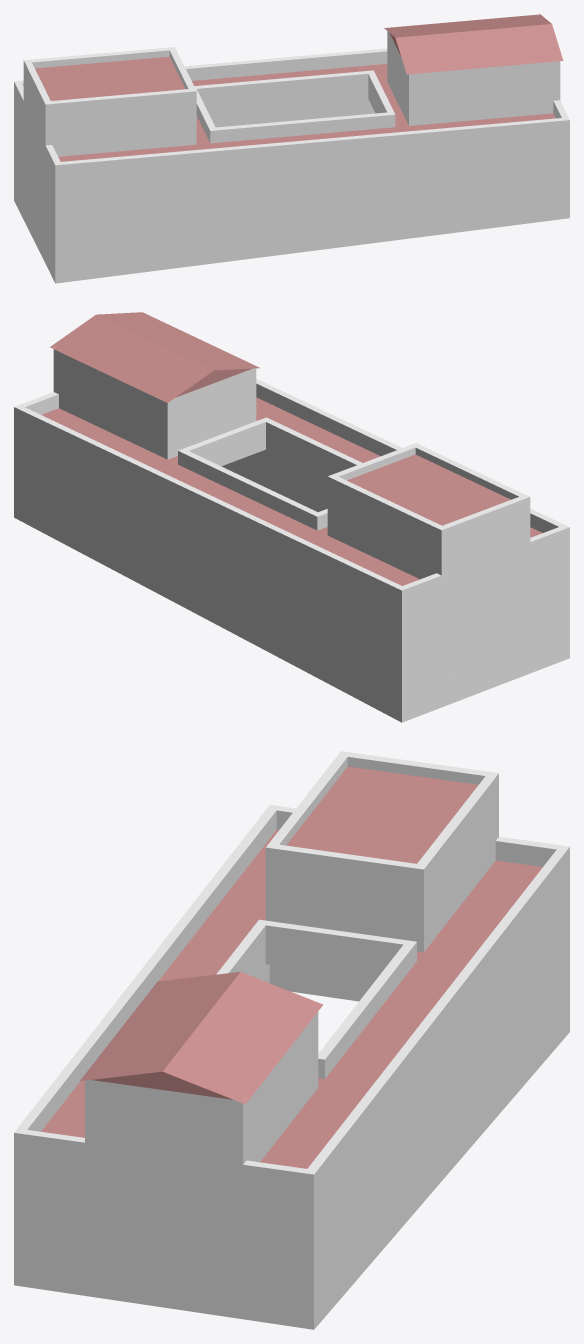
The model's file is LOD_Block_2_1.glb.
3 renders of one model, top to bottom at view 1: azimuth 30°, elevation 25°; view 2: azimuth 150°, elevation 25°; view 3: azimuth 270°, elevation 25°, orthographic. The views are drawn at different scales.
Parts seen in each view (by area): view 1: mesh_CityEngineMaterial_24; view 2: mesh_CityEngineMaterial_24; view 3: mesh_CityEngineMaterial_24.
Boxes of the visible parts, left/top/right/bottom form: mesh_CityEngineMaterial_24: left=14, top=14, right=569, bottom=283; mesh_CityEngineMaterial_24: left=14, top=312, right=569, bottom=722; mesh_CityEngineMaterial_24: left=14, top=751, right=569, bottom=1329.
Bounding box in the file's own units: 40.86 × 13.87 × 25.95.
